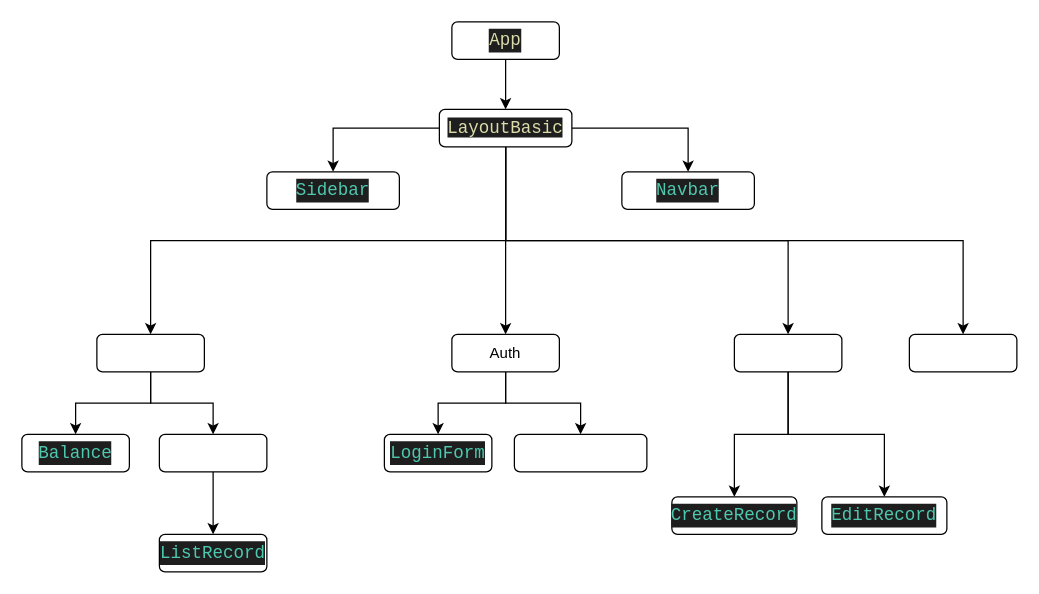
The diagram is 1039 pixels wide and 594 high, and some of its shapes have lost their labels. Here are the shapes that lost their labels. From the top down, the box of each, then its label:
(96, 333, 204, 372): Home
(733, 333, 842, 372): Create
(908, 333, 1017, 372): Error404
(158, 433, 267, 472): OrderBy
(513, 433, 647, 472): RegisterForm
